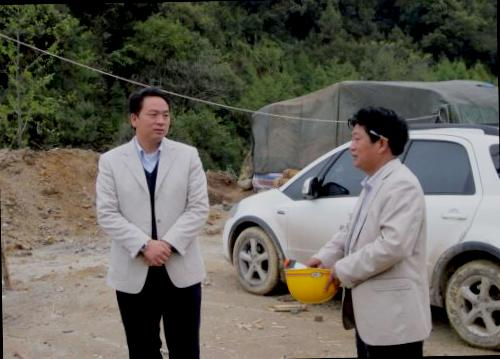no_helmet: (342, 100, 413, 174), (128, 86, 178, 144)
